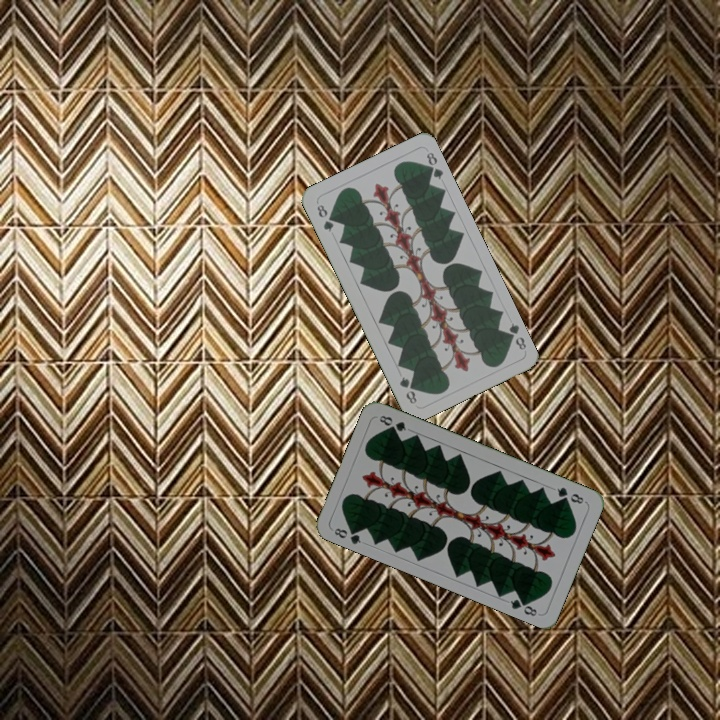G8: (501, 319, 529, 353), (553, 483, 588, 507), (330, 523, 364, 547), (313, 200, 336, 235)
